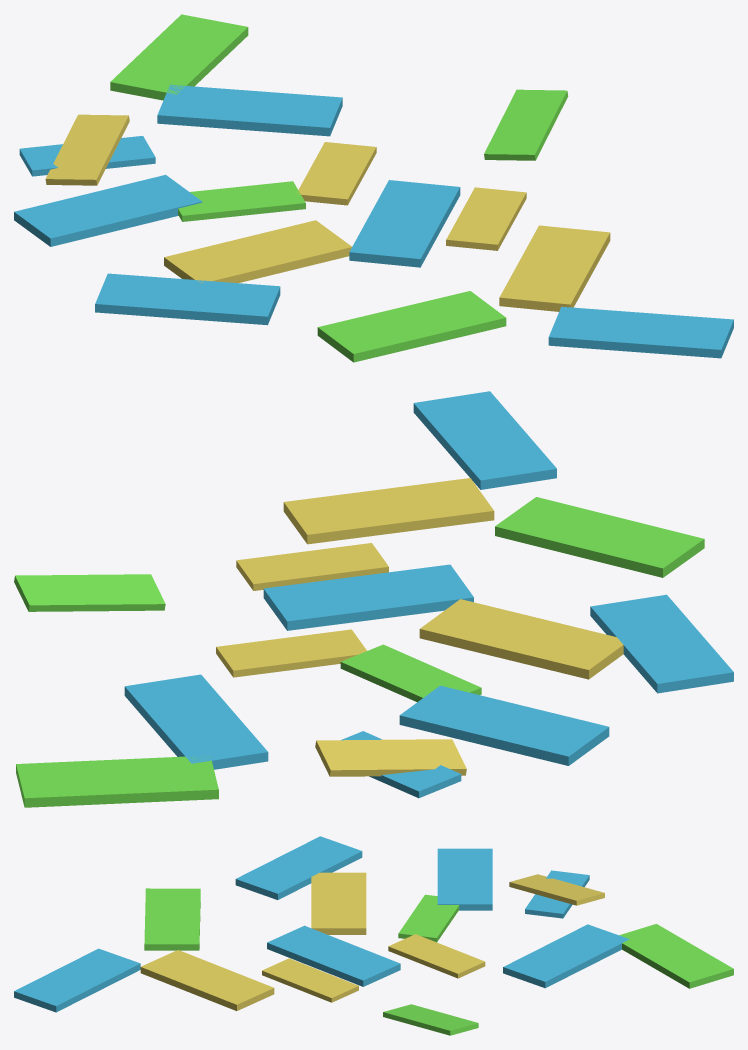
The model's file is Confetis.fbx.
3 views of the same model, one above another, from view 1: azimuth 30°, elevation 25°; view 2: azimuth 150°, elevation 25°; view 3: azimuth 270°, elevation 25° (orthographic). The views are drawn at different scales.
Parts seen in each view (by area): view 1: Cube.022; view 2: Cube.022; view 3: Cube.022.
Part boxes in pixels (box(x1,y1,x2,y2)): Cube.022: box(14, 14, 733, 362); Cube.022: box(14, 391, 733, 807); Cube.022: box(14, 836, 733, 1035).
Size of the model in its own units: 61.62 by 2.53 by 91.31.
